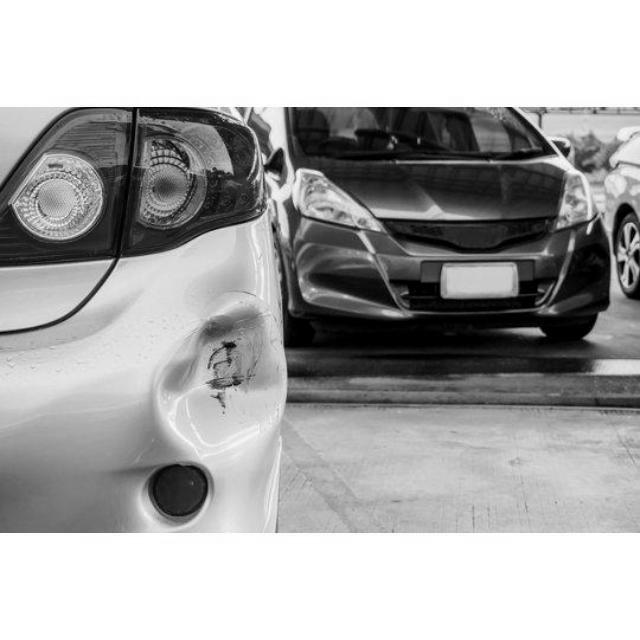rear-bumper-dent: (154, 290, 293, 474)
